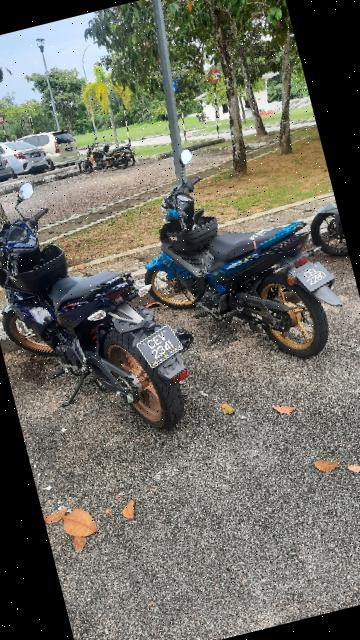License_Plate: (129, 318, 196, 377), (285, 248, 343, 302)
motorcycle: (119, 111, 360, 395), (1, 147, 203, 463)
